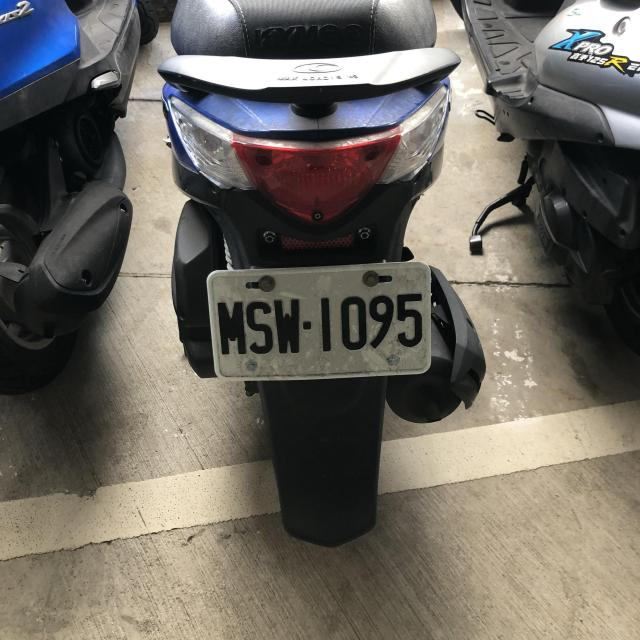W: (206, 262, 430, 381)
